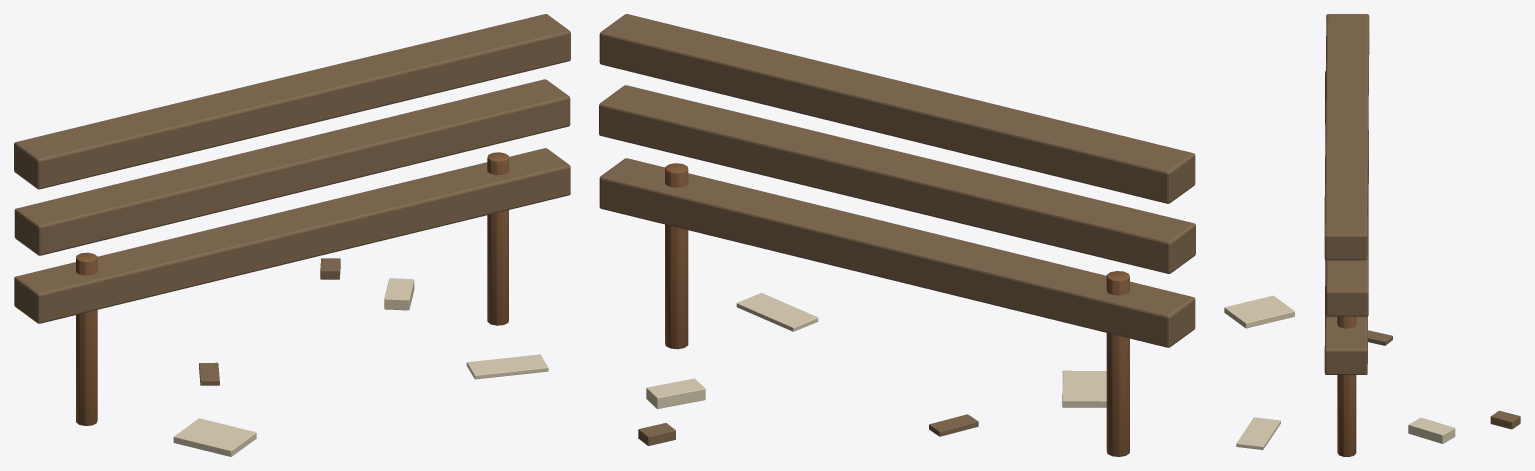
Rendered from dz_urban_bench_rotten_premium.glb.
3 renders of one model, left to right at view 1: azimuth 30°, elevation 25°; view 2: azimuth 150°, elevation 25°; view 3: azimuth 270°, elevation 25°, orthographic. The views are drawn at different scales.
Parts seen in each view (by area): view 1: bench_rotten_plank_1.08, bench_rotten_plank_0.82, bench_rotten_plank_0.55, bench_iron_leg_-0.85, bench_iron_leg_0.85, bench_debris_04, bench_debris_00, bench_debris_03; view 2: bench_rotten_plank_0.82, bench_rotten_plank_1.08, bench_rotten_plank_0.55, bench_iron_leg_0.85, bench_iron_leg_-0.85, bench_debris_04, bench_debris_00, bench_debris_03, bench_debris_02, bench_debris_01; view 3: bench_rotten_plank_1.08, bench_rotten_plank_0.82, bench_rotten_plank_0.55, bench_iron_leg_0.85, bench_debris_04, bench_debris_00, bench_debris_03, bench_debris_01.
Part boxes in pixels (bbox=[...]): bench_rotten_plank_1.08: bbox=[14, 14, 570, 189]; bench_rotten_plank_0.82: bbox=[14, 79, 570, 255]; bench_rotten_plank_0.55: bbox=[14, 148, 570, 323]; bench_iron_leg_-0.85: bbox=[76, 252, 97, 425]; bench_iron_leg_0.85: bbox=[487, 152, 508, 325]; bench_debris_04: bbox=[173, 418, 256, 456]; bench_debris_00: bbox=[466, 354, 548, 379]; bench_debris_03: bbox=[384, 278, 414, 310]; bench_rotten_plank_0.82: bbox=[599, 85, 1195, 273]; bench_rotten_plank_1.08: bbox=[599, 14, 1195, 203]; bench_rotten_plank_0.55: bbox=[599, 158, 1195, 347]; bench_iron_leg_0.85: bbox=[665, 163, 688, 349]; bench_iron_leg_-0.85: bbox=[1106, 271, 1129, 456]; bench_debris_04: bbox=[1062, 370, 1106, 407]; bench_debris_00: bbox=[736, 293, 818, 331]; bench_debris_03: bbox=[646, 378, 705, 408]; bench_debris_02: bbox=[929, 414, 978, 436]; bench_debris_01: bbox=[638, 423, 675, 445]; bench_rotten_plank_1.08: bbox=[1324, 14, 1369, 260]; bench_rotten_plank_0.82: bbox=[1325, 71, 1368, 316]; bench_rotten_plank_0.55: bbox=[1324, 130, 1368, 374]; bench_iron_leg_0.85: bbox=[1337, 316, 1356, 456]; bench_debris_04: bbox=[1224, 295, 1294, 328]; bench_debris_00: bbox=[1236, 417, 1280, 449]; bench_debris_03: bbox=[1408, 417, 1455, 443]; bench_debris_01: bbox=[1490, 410, 1520, 429].
Size of the model in its own units: 2.2 by 1.14 by 1.24.
